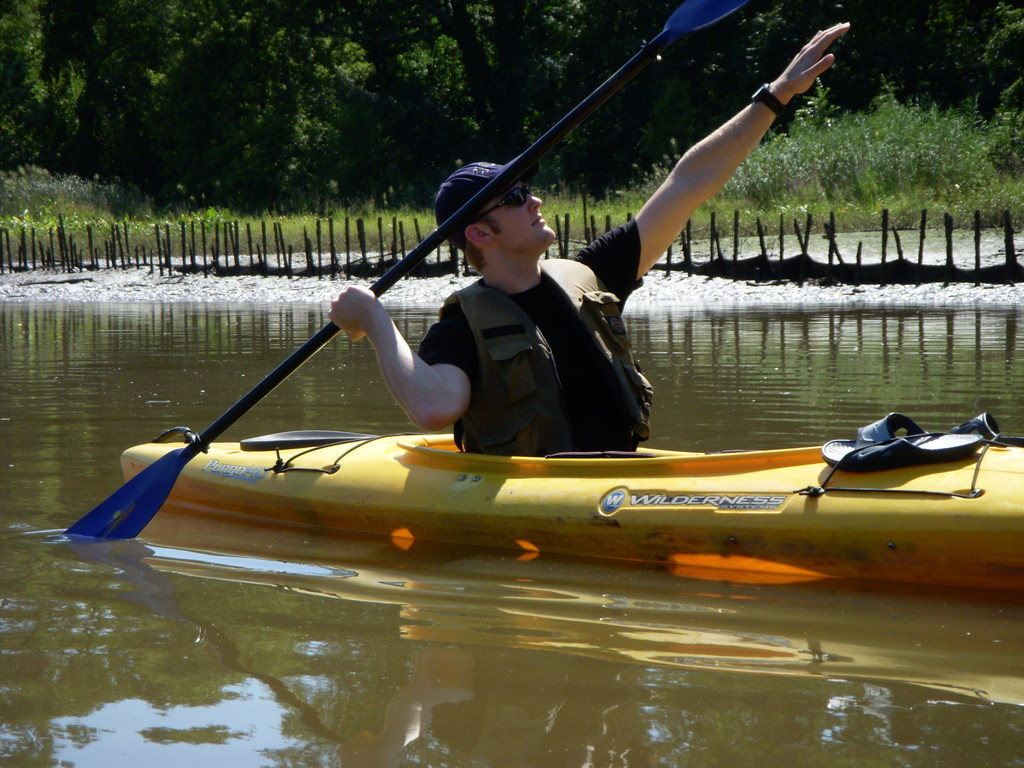Person: (327, 19, 852, 456)
